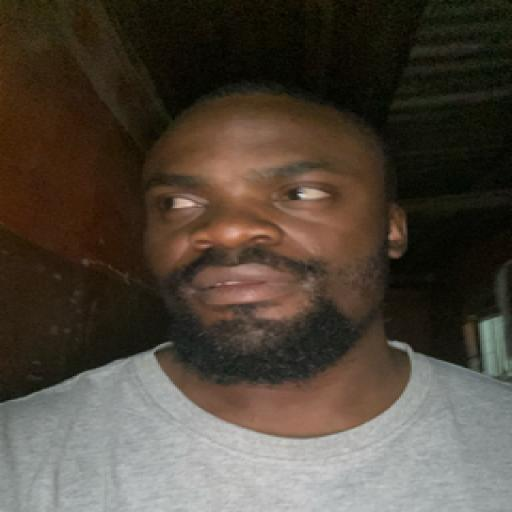JEANLUC: (142, 85, 414, 411)
